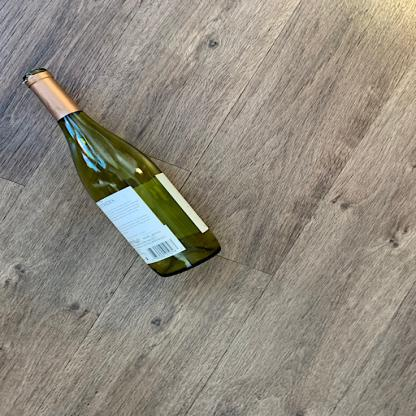trash: (21, 67, 224, 279)
